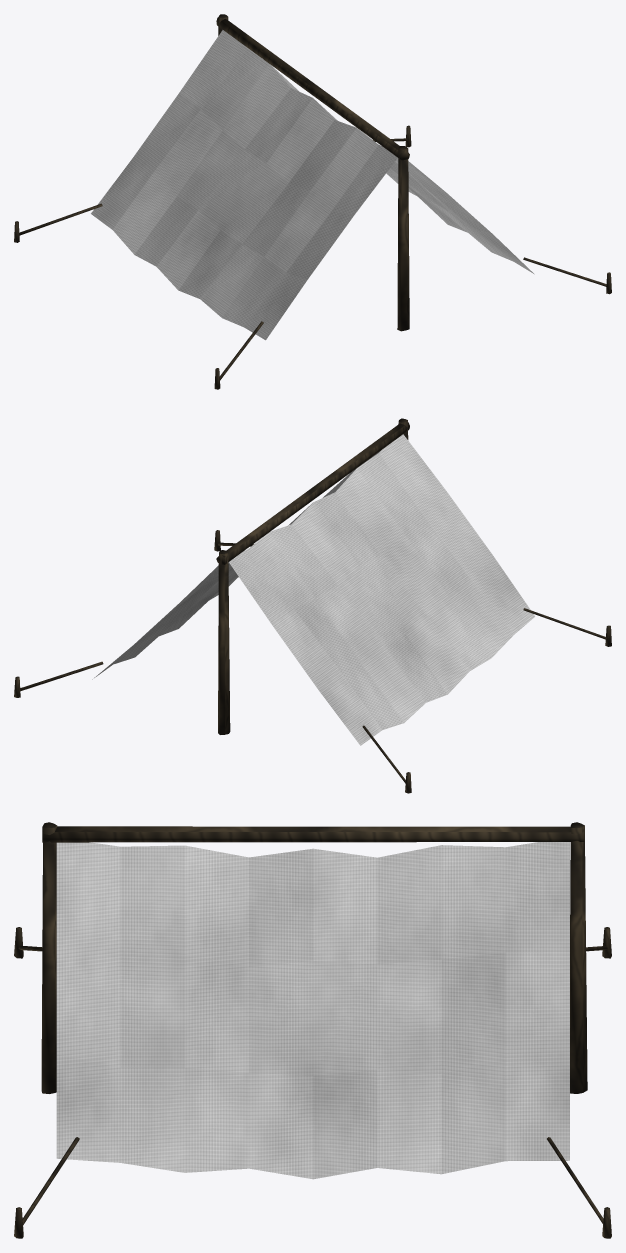
File: tent.glb
3 views of the same model, one above another, from view 1: azimuth 30°, elevation 25°; view 2: azimuth 150°, elevation 25°; view 3: azimuth 270°, elevation 25° (orthographic). The views are drawn at different scales.
Parts seen in each view (by area): view 1: tent; view 2: tent; view 3: tent.
Part boxes in pixels (x1,y1,x2,y2): tent: [14, 14, 611, 389]; tent: [14, 418, 611, 793]; tent: [14, 822, 611, 1238].
Bounding box in the file's own units: 4.72 × 2.1 × 4.19.
2 materials, 2 textured.
